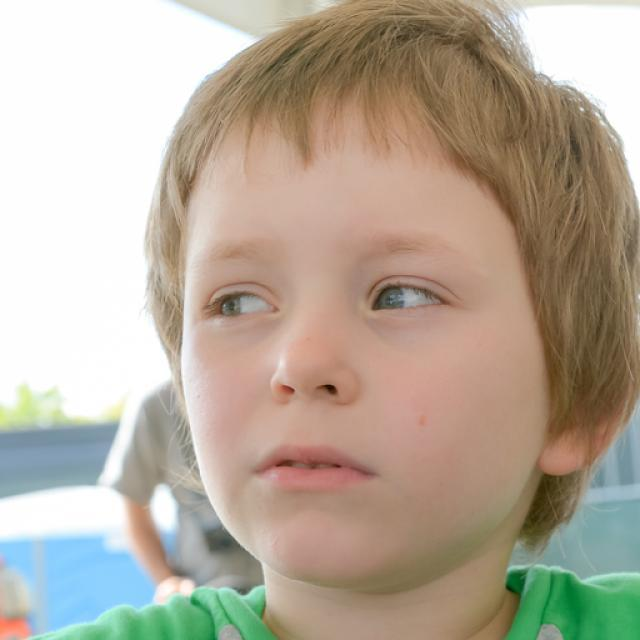sad: (182, 117, 550, 582)
